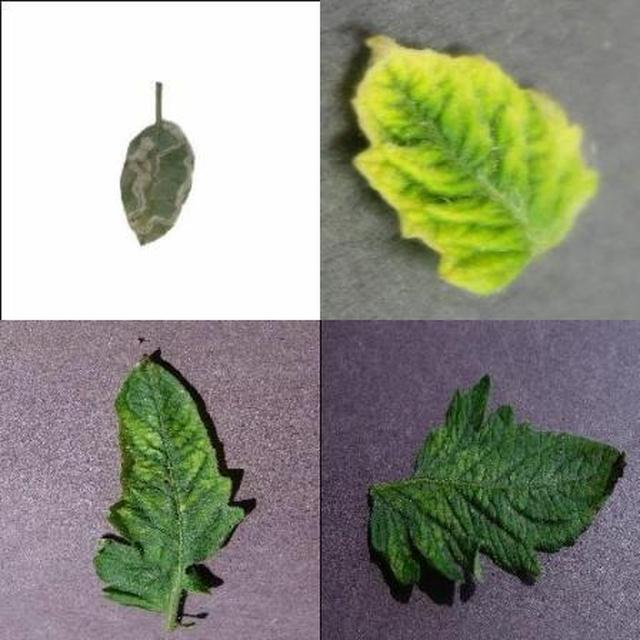Leaf Miner: (104, 181, 640, 640)
